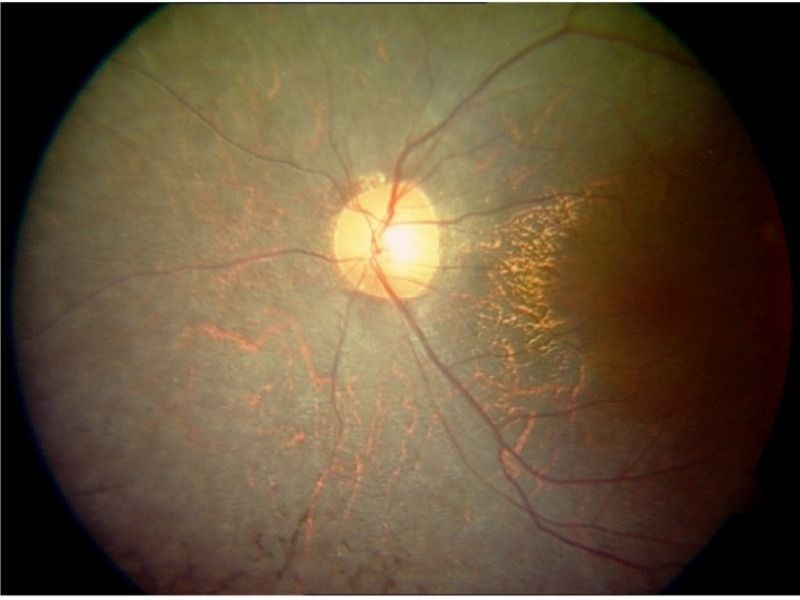Optic Cup: (369, 215, 415, 266)
Optic Disc: (332, 180, 441, 301)
